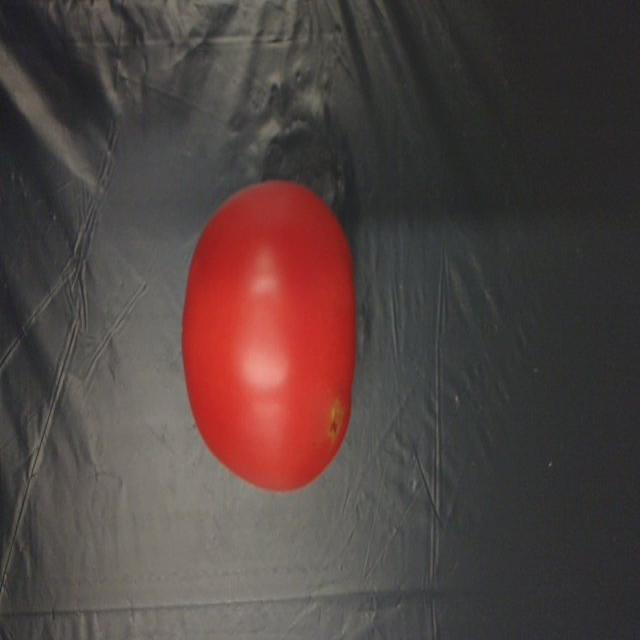kirmizi: (181, 172, 363, 497)
